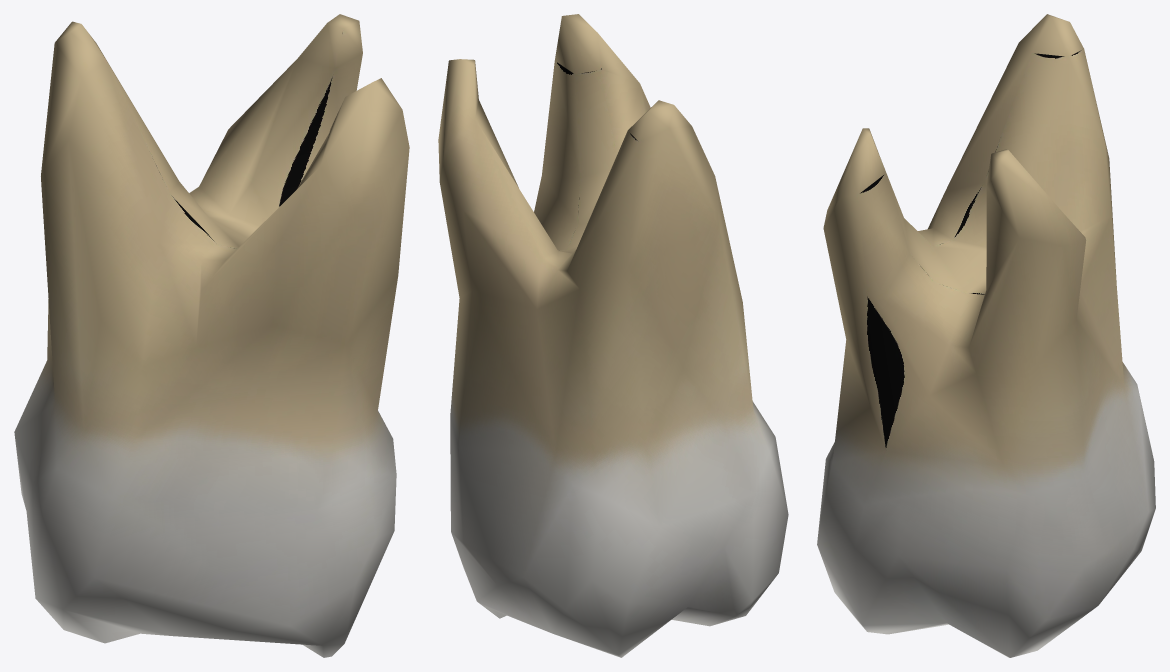
3 views of the same model, side by side, from view 1: azimuth 30°, elevation 25°; view 2: azimuth 150°, elevation 25°; view 3: azimuth 270°, elevation 25° (orthographic). The views are drawn at different scales.
Visible parts, largest first — view 1: Object_2; view 2: Object_2; view 3: Object_2.
Part boxes in pixels (<box>): Object_2: <box>14,14,409,657</box>; Object_2: <box>438,14,788,657</box>; Object_2: <box>817,14,1155,657</box>.
Size of the model in its own units: 0.4453 by 0.7738 by 0.427.
Materials: 1 (1 with a texture image).
